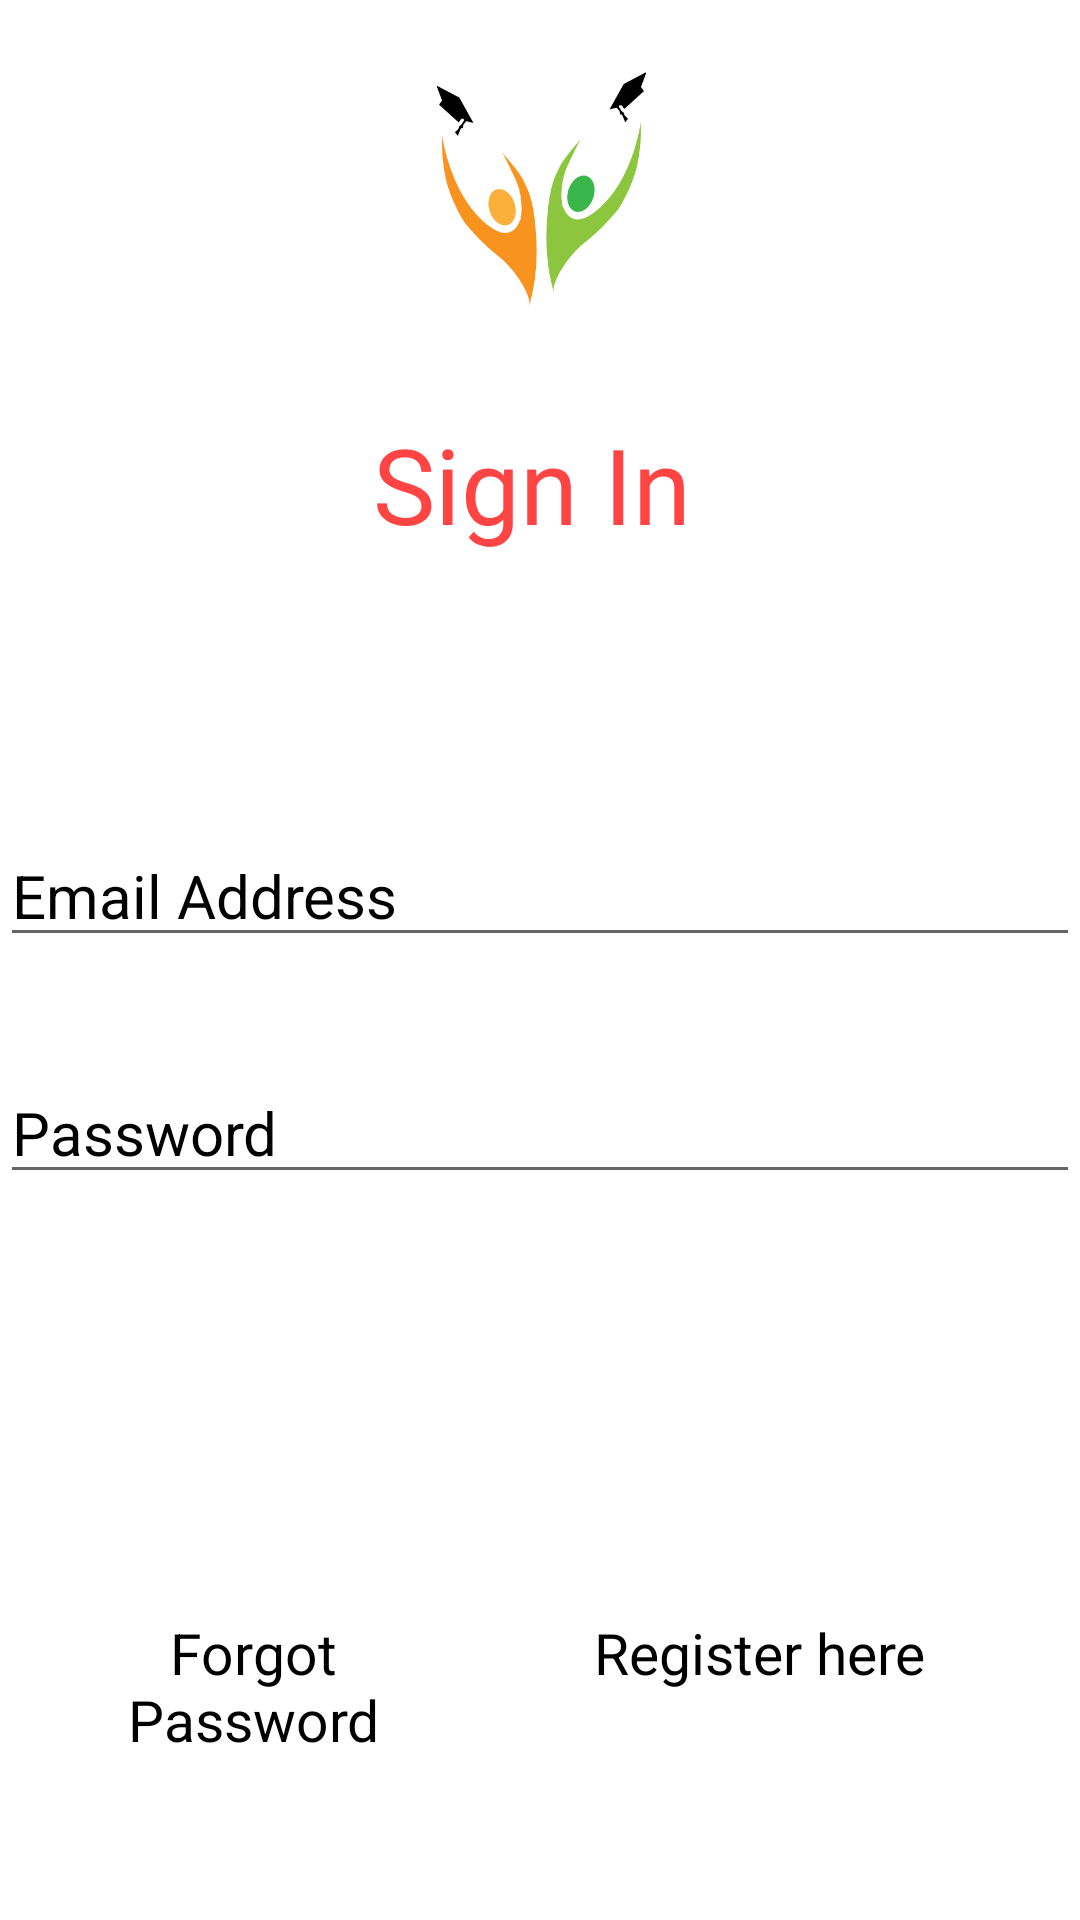

Locate icon controls on the screen. Image size 1080w x 1920h, boxes as (x1, y1, x2, y2).
alumni: (437, 72, 646, 306)
